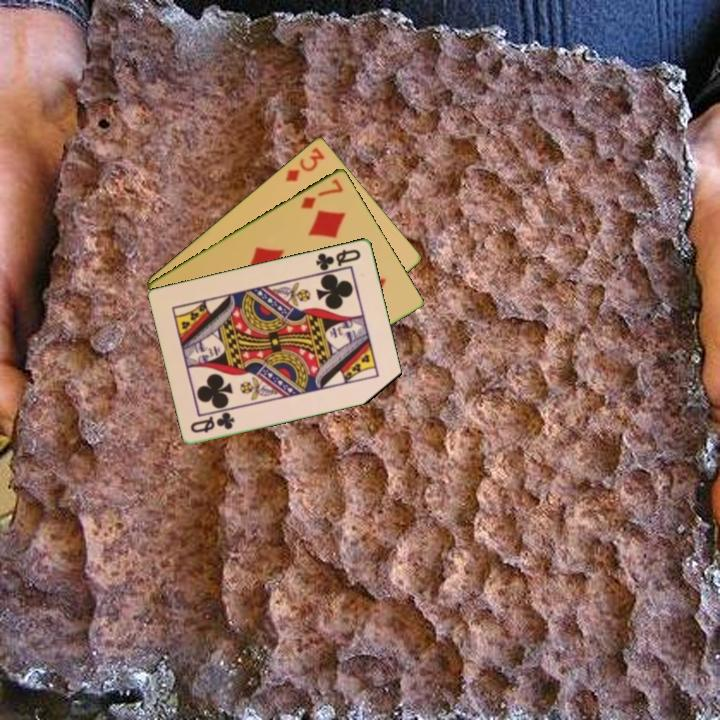3d: (282, 143, 327, 184)
7d: (297, 175, 346, 212)
Qc: (312, 245, 364, 273), (187, 409, 238, 435)
